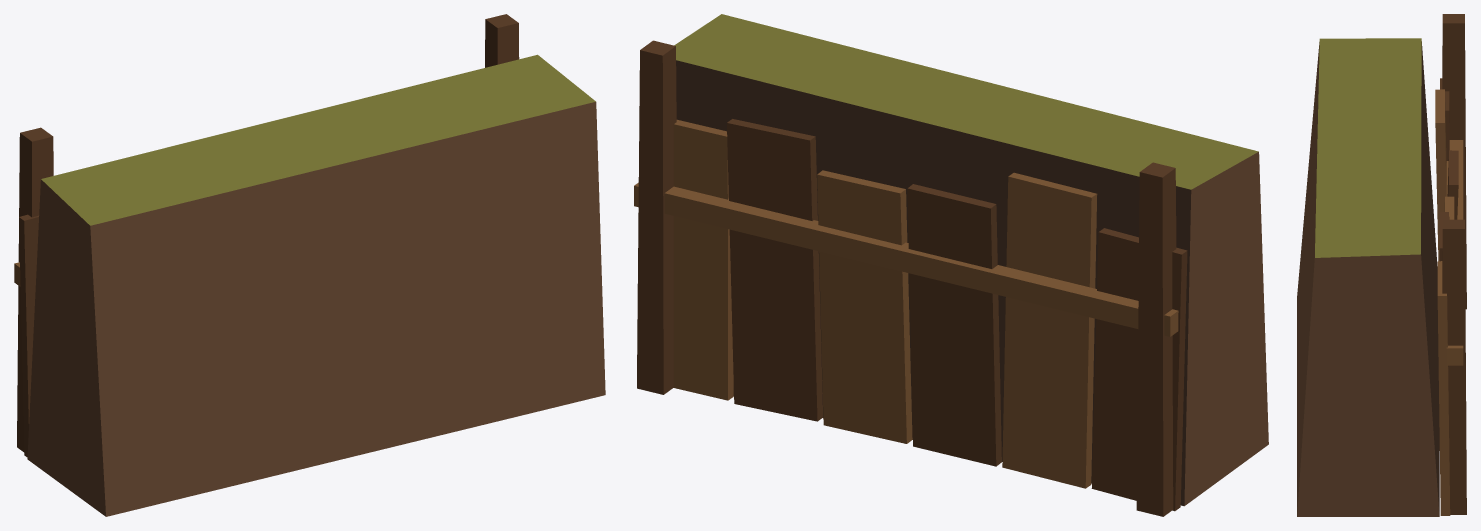
The model's file is SM_PitWall_4m.fbx.
The picture shows the model from 3 angles, left to right: view 1: azimuth 30°, elevation 25°; view 2: azimuth 150°, elevation 25°; view 3: azimuth 270°, elevation 25°; orthographic projection. The views are drawn at different scales.
Visible parts, largest first — view 1: SM_PitWall_4m; view 2: SM_PitWall_4m; view 3: SM_PitWall_4m.
Part boxes in pixels (box(x1,y1,x2,y2)): SM_PitWall_4m: box(14, 14, 605, 516); SM_PitWall_4m: box(634, 14, 1268, 516); SM_PitWall_4m: box(1297, 14, 1466, 516).
Size of the model in its own units: 4.43 by 1.43 by 2.66.
